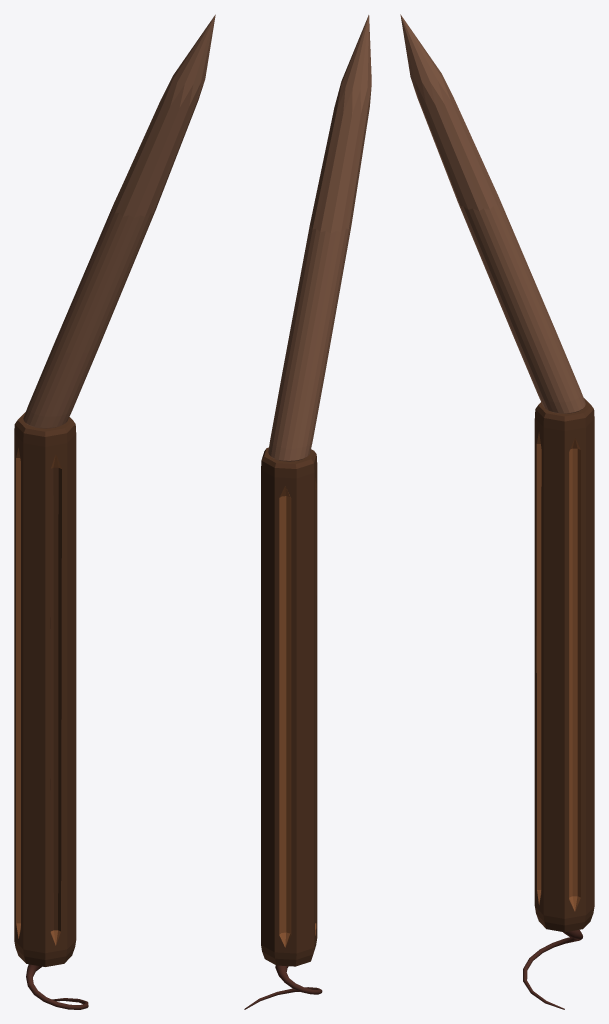
The model's file is Wand 599.glb.
3 renders of one model, left to right at view 1: azimuth 90°, elevation 25°; view 2: azimuth 150°, elevation 25°; view 3: azimuth 270°, elevation 25°, orthographic. The views are drawn at different scales.
Parts seen in each view (by area): view 1: GeneratedWand; view 2: GeneratedWand; view 3: GeneratedWand.
Boxes of the visible parts, x1,y1,x2,y2 form: GeneratedWand: (14,14,215,1009); GeneratedWand: (244,15,371,1009); GeneratedWand: (400,14,594,1009).
Bounding box in the file's own units: 0.0402 × 0.5196 × 0.0939.
